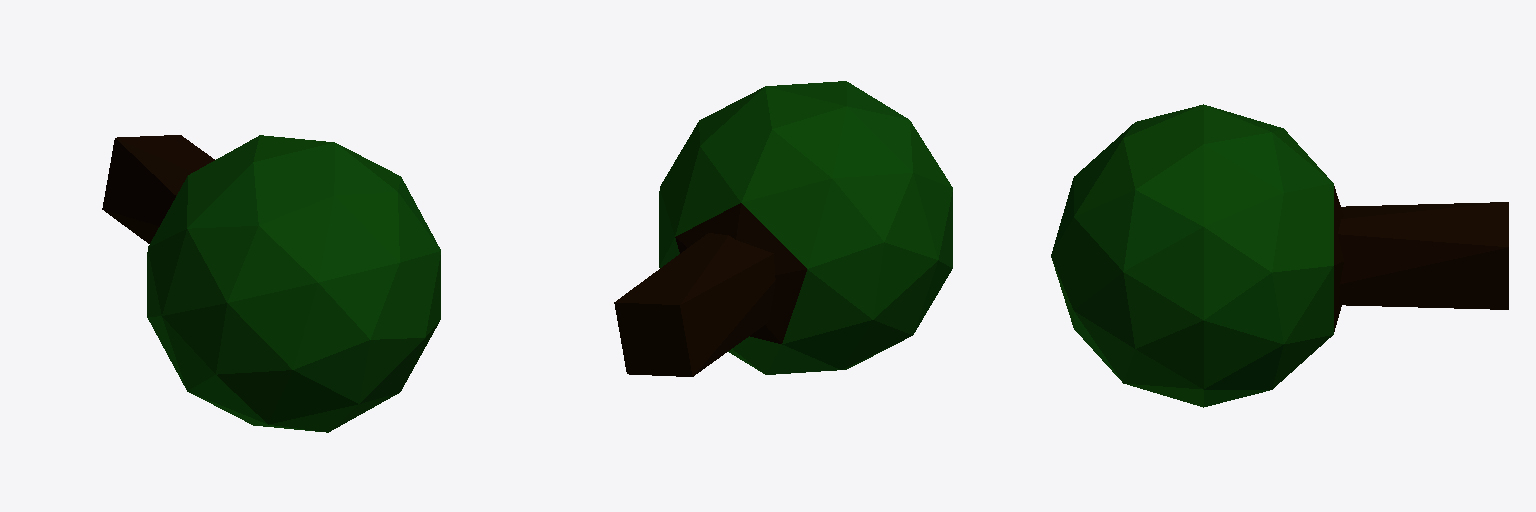
Rendered from low_poly_tree.obj.
The picture shows the model from 3 angles: view 1: azimuth 30°, elevation 25°; view 2: azimuth 150°, elevation 25°; view 3: azimuth 270°, elevation 25°; orthographic projection.
Parts seen in each view (by area): view 1: Cylinder; view 2: Cylinder; view 3: Cylinder.
Part boxes in pixels (x1,y1,x2,y2): Cylinder: (102, 135, 440, 432); Cylinder: (614, 81, 952, 376); Cylinder: (1051, 104, 1508, 407).
Size of the model in its own units: 6 by 5.71 by 9.